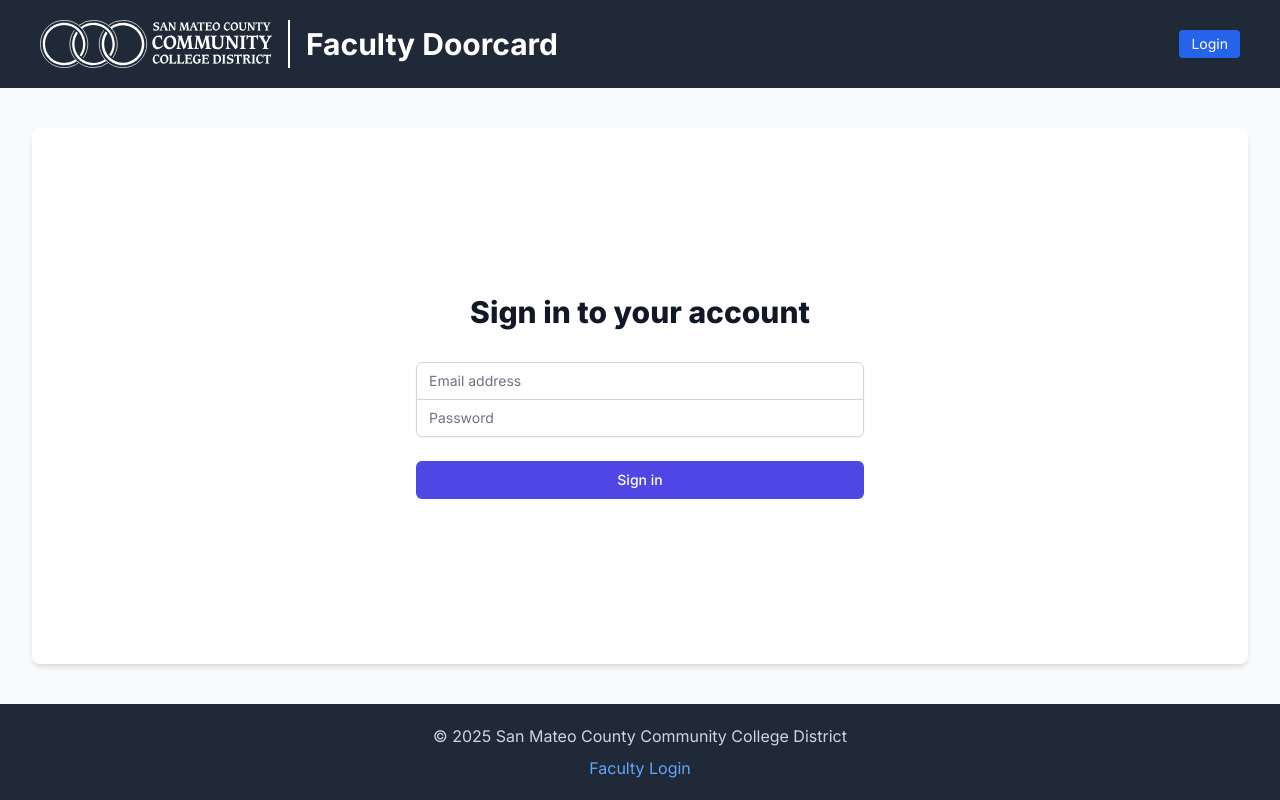
Test: Login Input Validation › should show 'Enter a valid email' for invalid email format
The width and height of the screenshot is (1280, 800).
Type "not-an-email" into the field named "email" at (640, 381), box [416, 362, 864, 400]
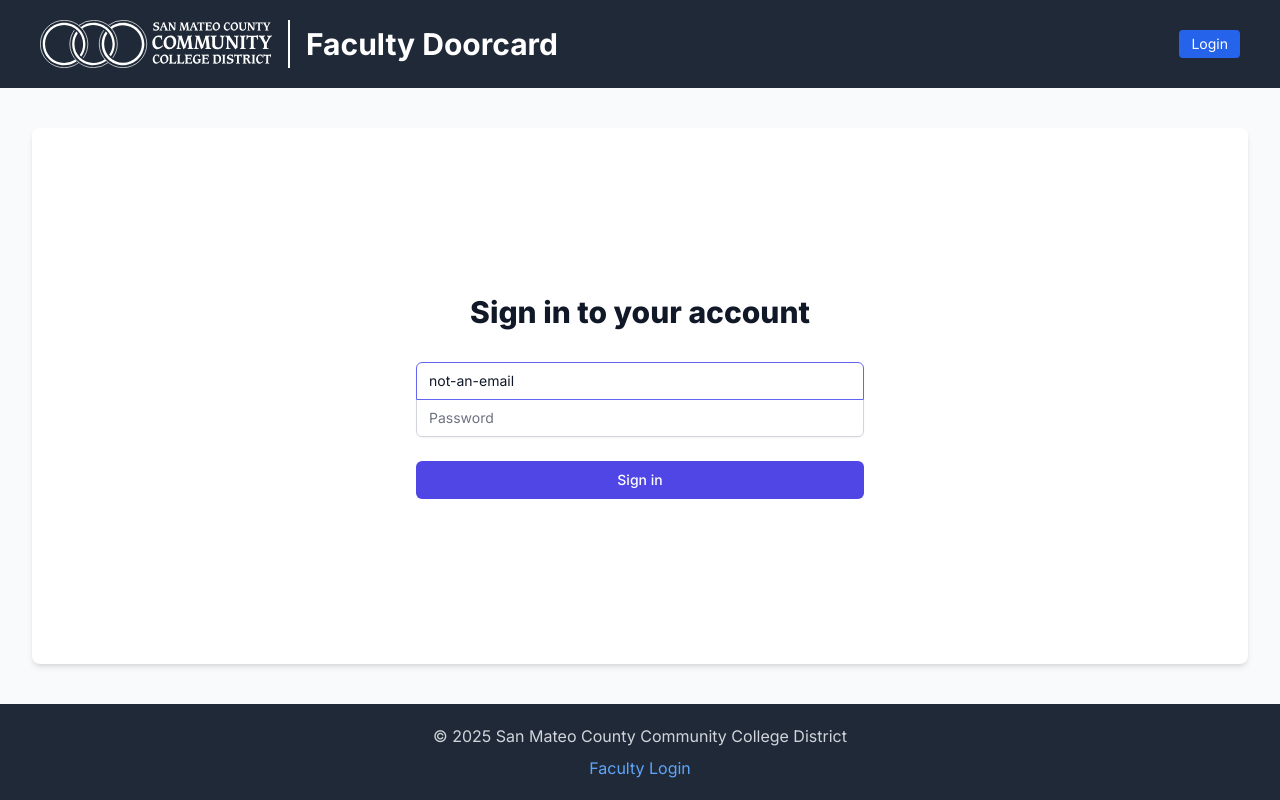
Type "password123" into the password field named "password" at (640, 418), box [416, 399, 864, 437]
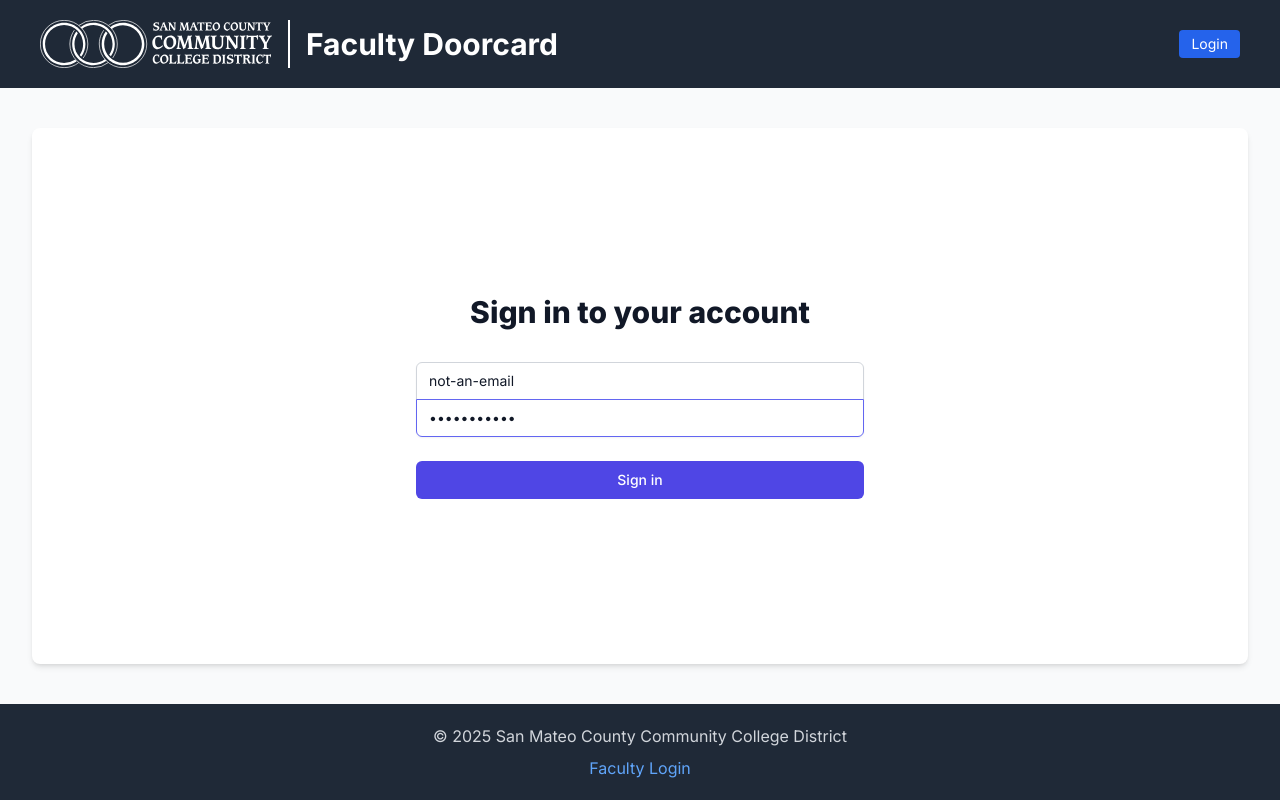
Click the submit button at (640, 480), box [416, 461, 864, 499]
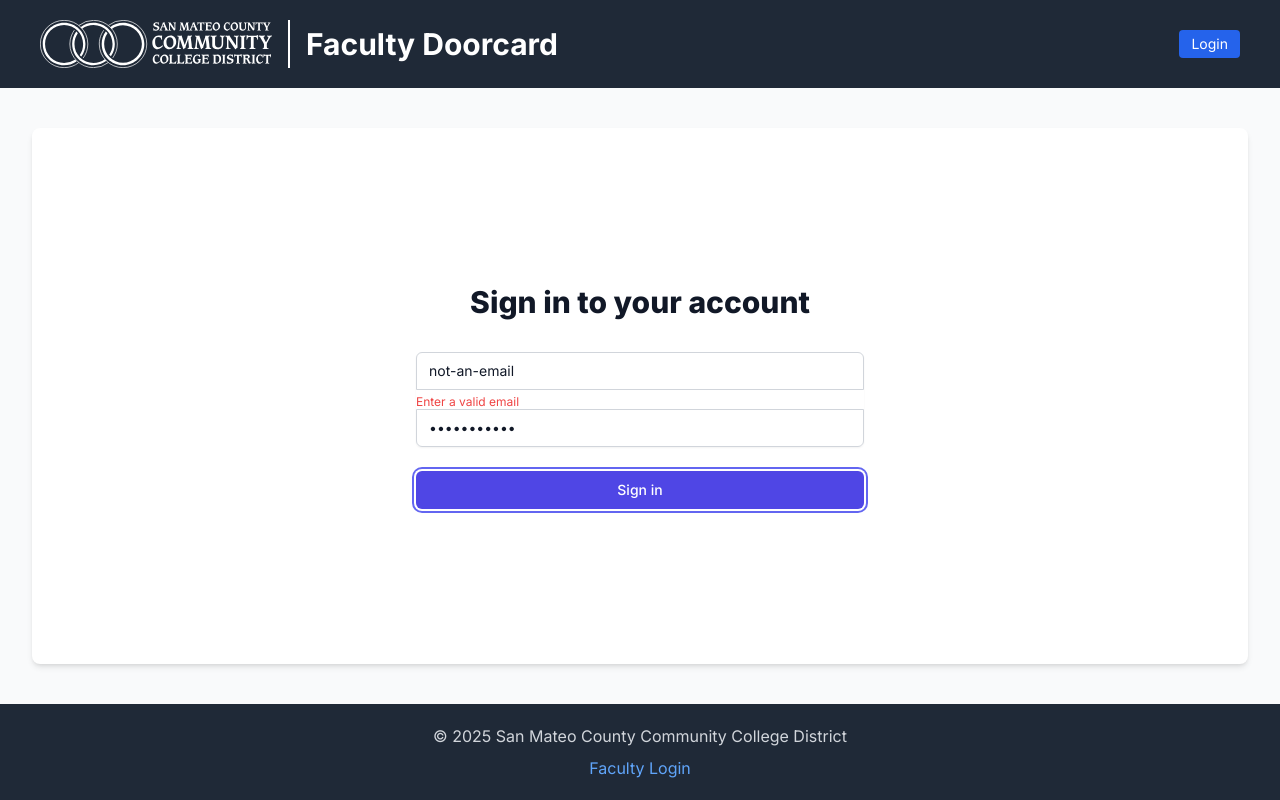
Check: the text "Enter a valid email" is shown, box [416, 394, 519, 409]
